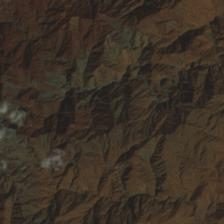landslides: (13, 161, 33, 174), (191, 9, 204, 26), (6, 153, 27, 160), (4, 85, 27, 91)
